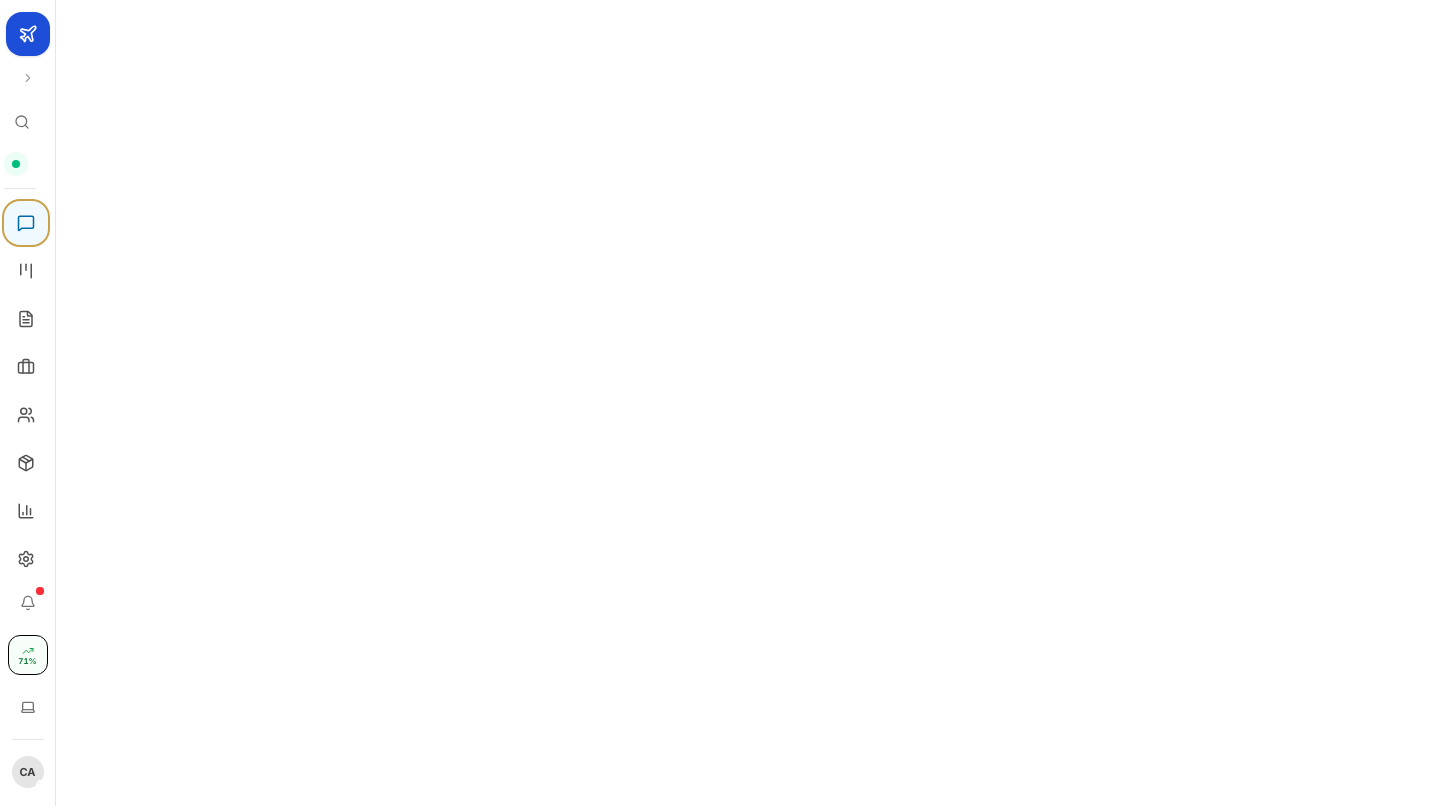
Scenario: BarraModulos y Selector de Sesión (ADR-0011) › Interacción con Menú de Sesión y Perfil › cierra el diálogo al pulsar el telón de fondo
Click the button with test id "boton-avatar-sesion" at (28,772), box 6,750 -> 50,794
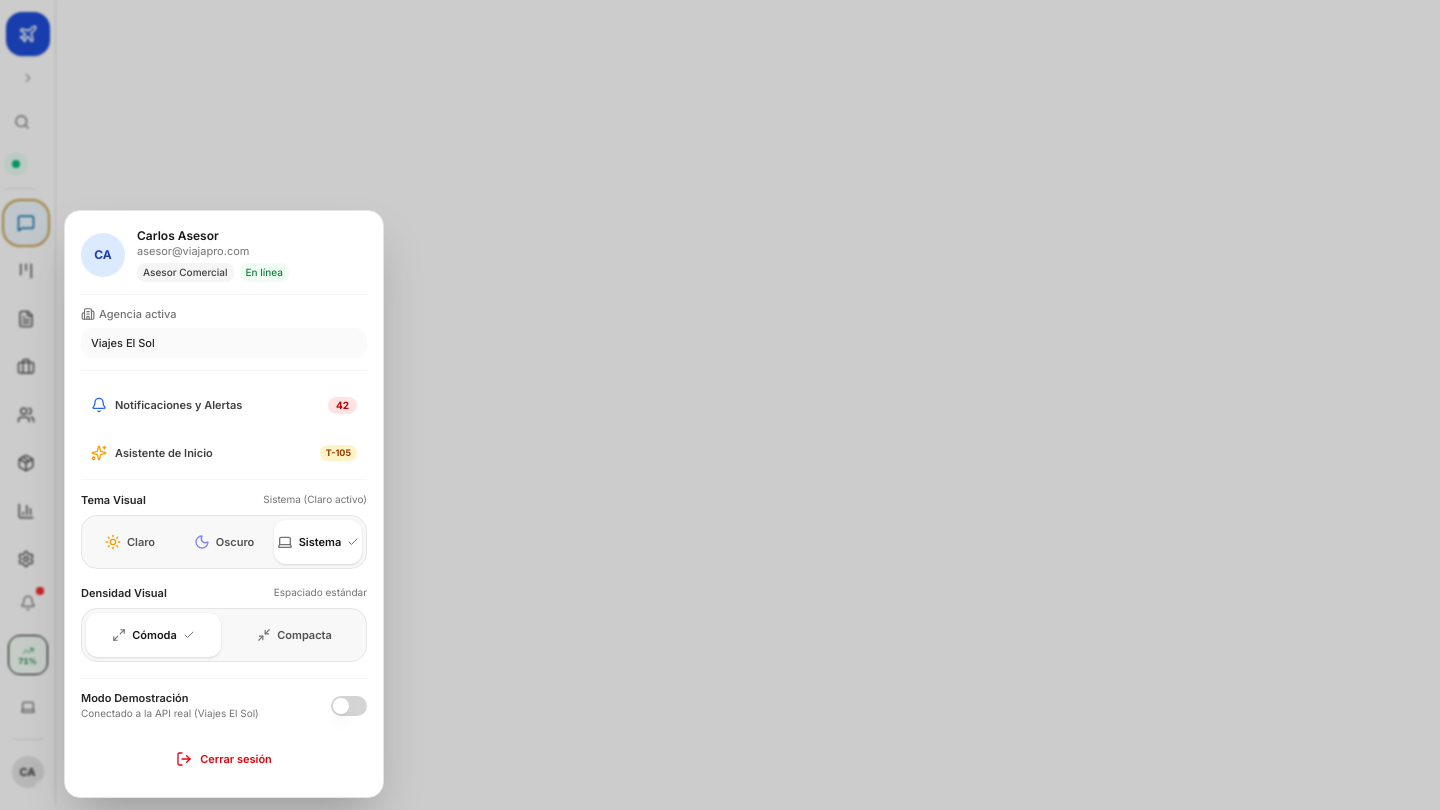
Now the dialog with test id "dialogo-perfil-sesion" is shown, box 64,210 -> 384,798
Click the element with test id "telon-perfil-sesion" at (720,405), box 0,0 -> 1439,809
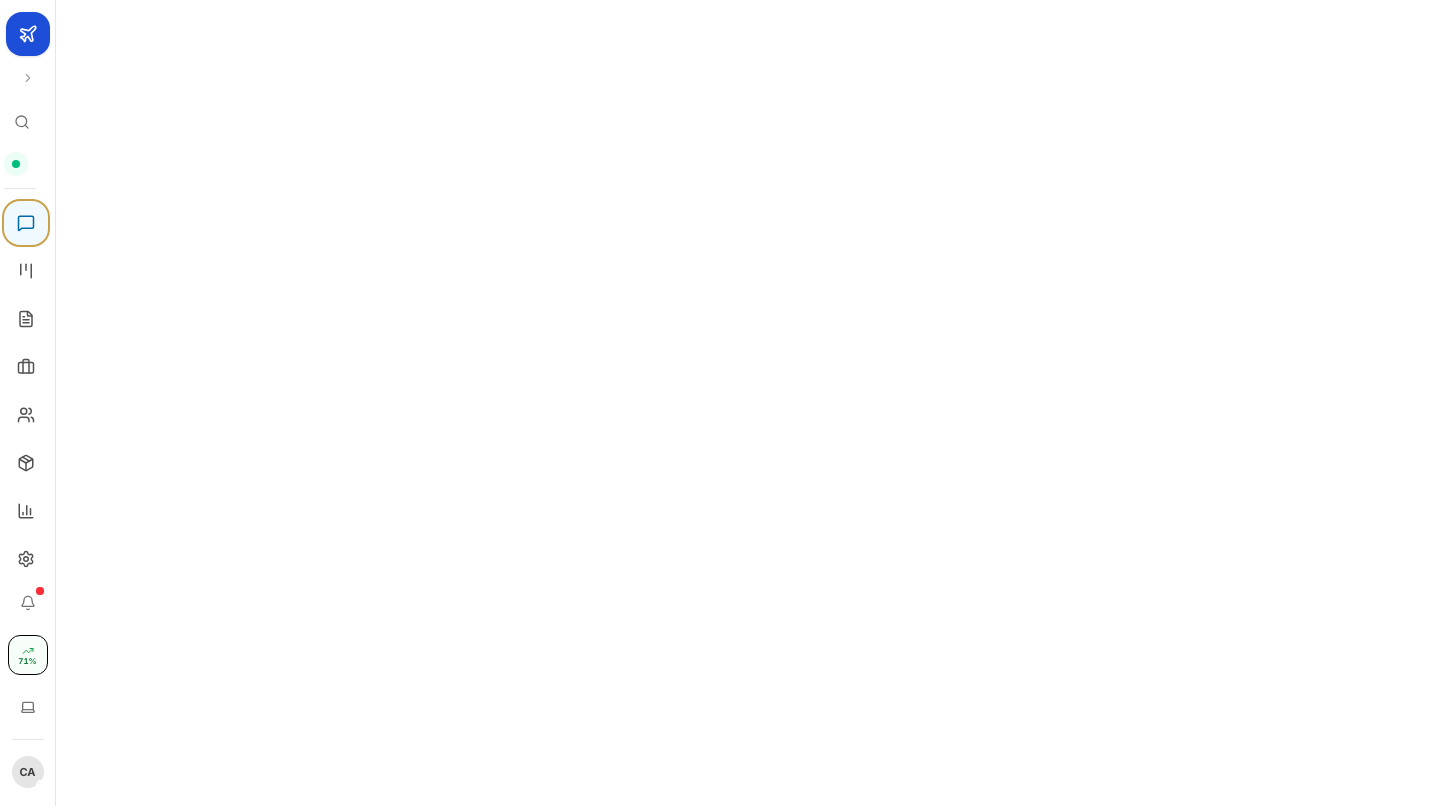
Now the dialog with test id "dialogo-perfil-sesion" is gone
